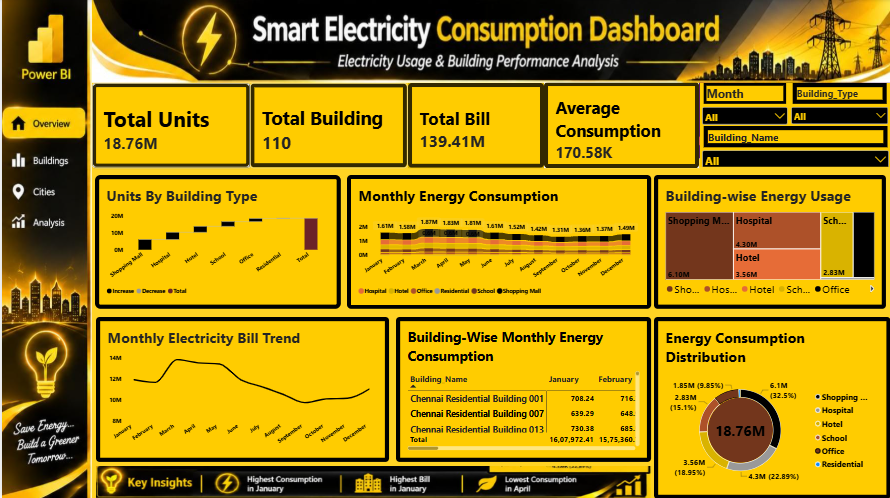

The page's visual inventory and layout, read from the dashboard file:
{"tool":"powerbi","page":{"name":"Dashboard","canvas":[1920,1080],"ordinal":0},"visuals":[{"type":"gauge","title":"Total Units","fields":{"MaxValue":["Smart_Electricity_Consumption_Cleaned.Electricity Target"],"MinValue":["Smart_Electricity_Consumption_Cleaned.Minimum Value"],"TargetValue":["Smart_Electricity_Consumption_Cleaned.Electricity Target"],"Y":["Smart_Electricity_Consumption_Cleaned.Total Units"]},"box":[1471.5,60.5,448.5,284.7],"z":0},{"type":"treemap","title":"Building-wise Energy Usage","fields":{"Group":["Smart_Electricity_Consumption_Cleaned.Building_Type"],"Values":["Smart_Electricity_Consumption_Cleaned.Total Units"]},"box":[1408.3,380.2,501.1,289.4],"z":1000},{"type":"ribbonChart","title":"Monthly Energy Consumption","fields":{"Category":["Smart_Electricity_Consumption_Cleaned.Month"],"Series":["Smart_Electricity_Consumption_Cleaned.Building_Type"],"Y":["Smart_Electricity_Consumption_Cleaned.Total Units"]},"box":[745.2,380.2,656.6,289.4],"z":2000},{"type":"waterfallChart","title":"Units By Building Type","fields":{"Category":["Smart_Electricity_Consumption_Cleaned.Building_Type"],"Y":["Smart_Electricity_Consumption_Cleaned.Total Units"]},"box":[200.9,380.2,531.4,289.4],"z":3000},{"type":"donutChart","title":"Energy Consumption Distribution","fields":{"Category":["Smart_Electricity_Consumption_Cleaned.Building_Type"],"Y":["Smart_Electricity_Consumption_Cleaned.Total Units"]},"box":[1408.5,687.9,511.5,393.1],"z":4000},{"type":"pivotTable","title":"Building-Wise Monthly Energy Consumption","fields":{"Columns":["Smart_Electricity_Consumption_Cleaned.Month"],"Rows":["Smart_Electricity_Consumption_Cleaned.Building_Name"],"Values":["Smart_Electricity_Consumption_Cleaned.Total Units"]},"box":[851,686.9,550.8,313.2],"z":5000},{"type":"cardVisual","fields":{"Data":["Smart_Electricity_Consumption_Cleaned.Total Units"]},"box":[194,181.4,342.7,183.9],"z":6000},{"type":"cardVisual","fields":{"Data":["Smart_Electricity_Consumption_Cleaned.Total Building"]},"box":[536.7,181.4,340.2,183.9],"z":7000},{"type":"cardVisual","fields":{"Data":["Smart_Electricity_Consumption_Cleaned.Total Bill"]},"box":[876.9,181.4,294.8,183.9],"z":8000},{"type":"cardVisual","fields":{"Data":["Smart_Electricity_Consumption_Cleaned.Average Consumption"]},"box":[1171.7,178.9,335.1,186.5],"z":9000},{"type":"image","box":[194,0,1726,181.4],"z":10000},{"type":"image","box":[0,0,194,1080.9],"z":11000},{"type":"slicer","fields":{"Values":["Smart_Electricity_Consumption_Cleaned.Month"]},"box":[1506.8,181.4,194,93.2],"z":12000},{"type":"slicer","fields":{"Values":["Smart_Electricity_Consumption_Cleaned.Building_Type"]},"box":[1700.8,181.4,219.2,93.2],"z":13000},{"type":"slicer","fields":{"Values":["Smart_Electricity_Consumption_Cleaned.Building_Name"]},"box":[1506.8,274.6,413.2,88.2],"z":14000},{"type":"lineChart","title":"Monthly Electricity Bill Trend","fields":{"Category":["Smart_Electricity_Consumption_Cleaned.Month"],"Y":["Sum(Smart_Electricity_Consumption_Cleaned.Total_Bill)"]},"box":[203,686.9,632.9,313.2],"z":15000},{"type":"image","box":[203,1008.7,1198.8,71.3],"z":16000}]}

Visuals, with their boxes in screenshot pixels (x1, y1, x2, y2):
"Total Units" gauge: box(677, 28, 881, 157)
"Building-wise Energy Usage" treemap: box(648, 173, 876, 305)
"Monthly Energy Consumption" ribbonChart: box(346, 173, 645, 305)
"Units By Building Type" waterfallChart: box(98, 173, 340, 305)
"Energy Consumption Distribution" donutChart: box(648, 313, 881, 492)
"Building-Wise Monthly Energy Consumption" pivotTable: box(394, 313, 645, 455)
cardVisual - Smart_Electricity_Consumption_Cleaned.Total Units: box(95, 83, 251, 166)
cardVisual - Smart_Electricity_Consumption_Cleaned.Total Building: box(251, 83, 406, 166)
cardVisual - Smart_Electricity_Consumption_Cleaned.Total Bill: box(406, 83, 540, 166)
cardVisual - Smart_Electricity_Consumption_Cleaned.Average Consumption: box(540, 81, 693, 166)
image: box(95, 0, 881, 83)
image: box(7, 0, 95, 492)
slicer - Smart_Electricity_Consumption_Cleaned.Month: box(693, 83, 781, 125)
slicer - Smart_Electricity_Consumption_Cleaned.Building_Type: box(781, 83, 881, 125)
slicer - Smart_Electricity_Consumption_Cleaned.Building_Name: box(693, 125, 881, 165)
"Monthly Electricity Bill Trend" lineChart: box(99, 313, 387, 455)
image: box(99, 459, 645, 491)
